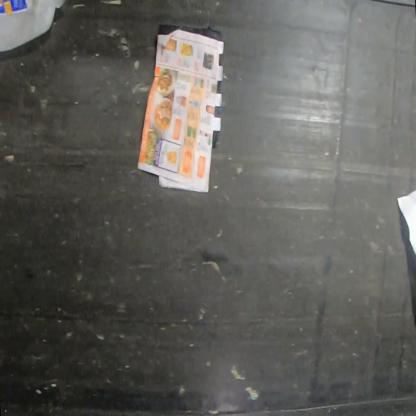rigid_plastic: (0, 0, 67, 55)
